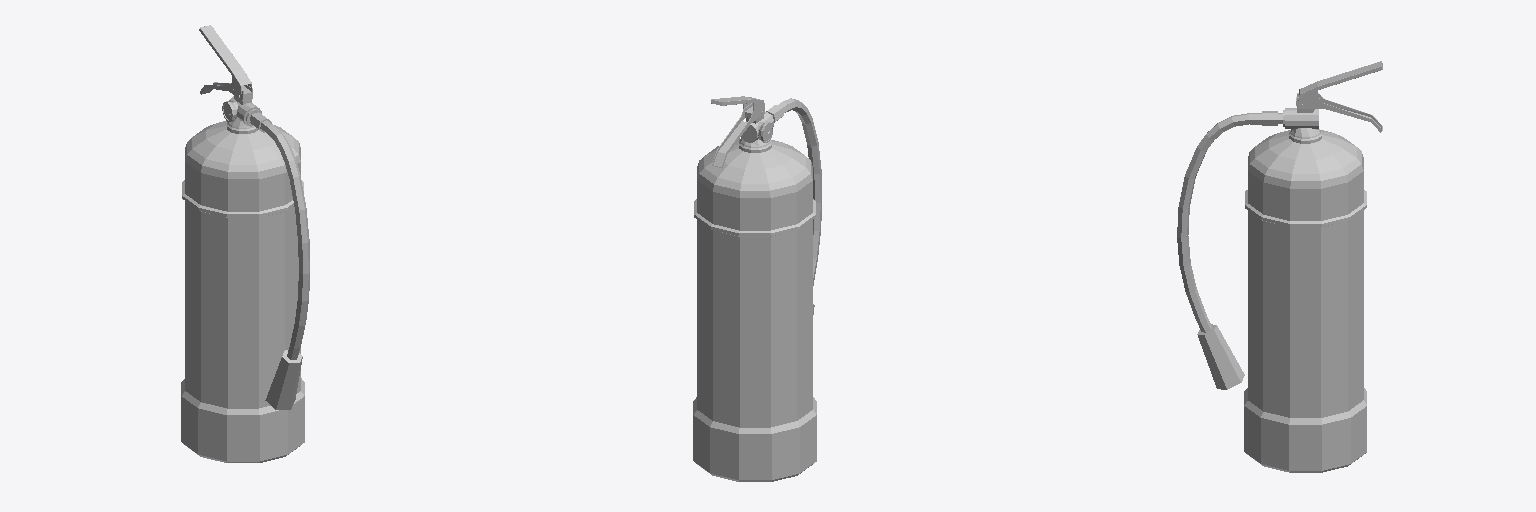
Rendered from Fire Extinguisher_001.obj.
3 views of the same model, side by side, from view 1: azimuth 30°, elevation 25°; view 2: azimuth 150°, elevation 25°; view 3: azimuth 270°, elevation 25° (orthographic).
Visible parts, largest first — view 1: Fire_Extinguisher; view 2: Fire_Extinguisher; view 3: Fire_Extinguisher.
Part boxes in pixels (x1,y1,x2,y2): Fire_Extinguisher: (181, 25, 309, 462); Fire_Extinguisher: (693, 96, 821, 481); Fire_Extinguisher: (1177, 61, 1382, 472).
Size of the model in its own units: 1.71 by 5.89 by 2.86.